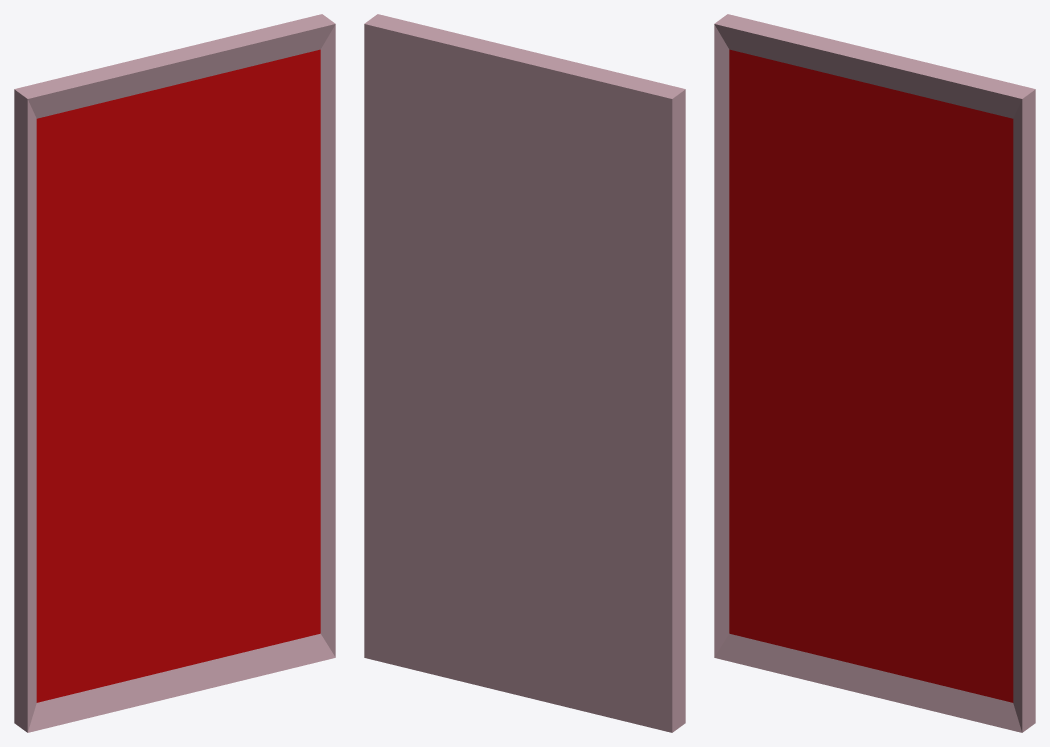
The model's file is poster.obj.
3 renders of one model, left to right at view 1: azimuth 30°, elevation 25°; view 2: azimuth 150°, elevation 25°; view 3: azimuth 330°, elevation 25°, orthographic.
Visible parts, largest first — view 1: Cube; view 2: Cube; view 3: Cube.
Part boxes in pixels (x1,y1,x2,y2): Cube: [14, 14, 335, 732]; Cube: [364, 14, 685, 732]; Cube: [714, 14, 1035, 732].
Size of the model in its own units: 0.6427 by 1.26 by 0.049.
